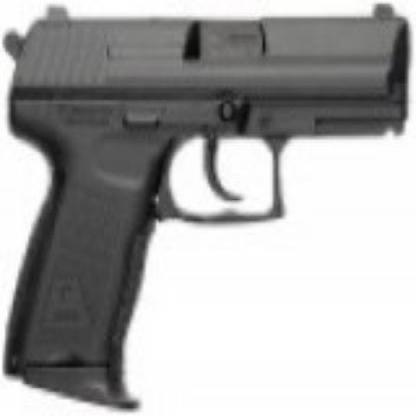pistol: (0, 0, 400, 395)
